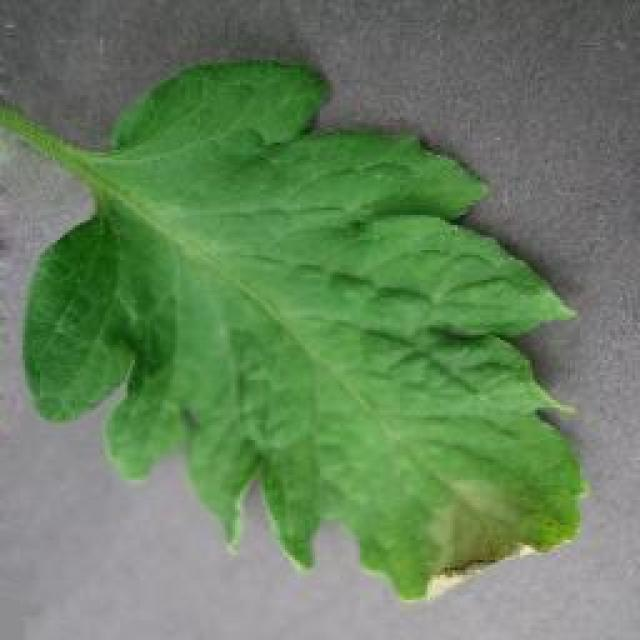Tomato___Late_blight: (0, 60, 590, 608)
